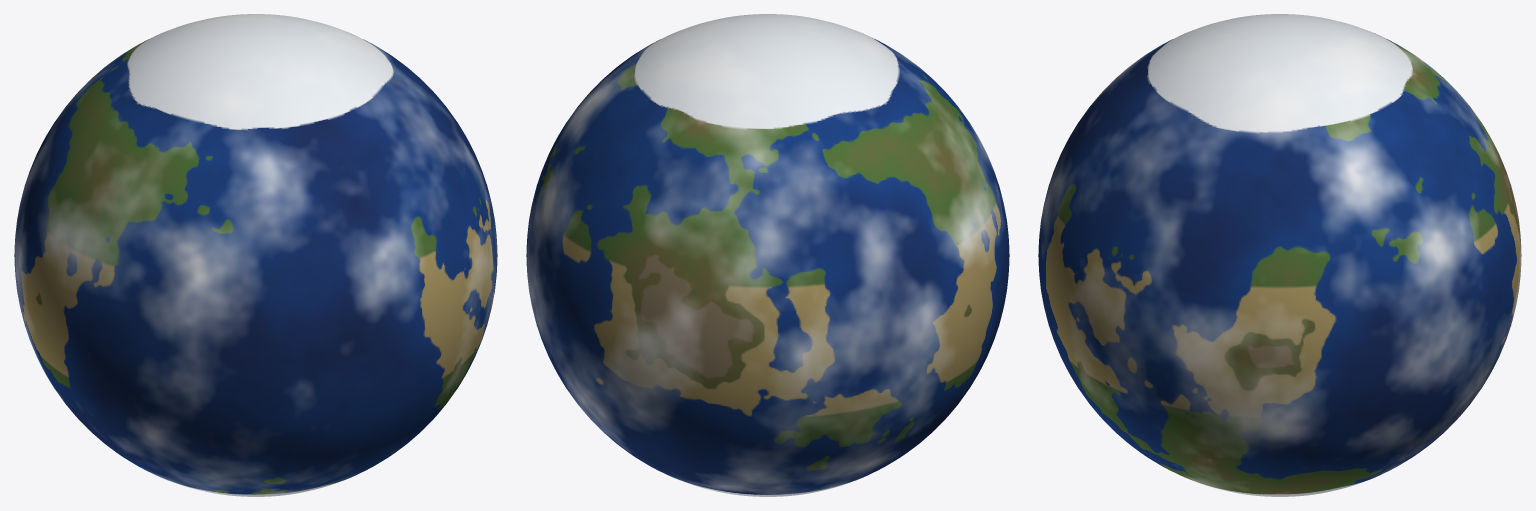
The model's file is planet.obj.
3 renders of one model, left to right at view 1: azimuth 30°, elevation 25°; view 2: azimuth 150°, elevation 25°; view 3: azimuth 270°, elevation 25°, orthographic.
Parts seen in each view (by area): view 1: planet; view 2: planet; view 3: planet.
Boxes of the visible parts, x1=… form: planet: x1=14, y1=14, x2=497, y2=496; planet: x1=526, y1=14, x2=1009, y2=496; planet: x1=1038, y1=14, x2=1521, y2=496.
Size of the model in its own units: 2 by 2 by 2.
1 material, 1 textured.
